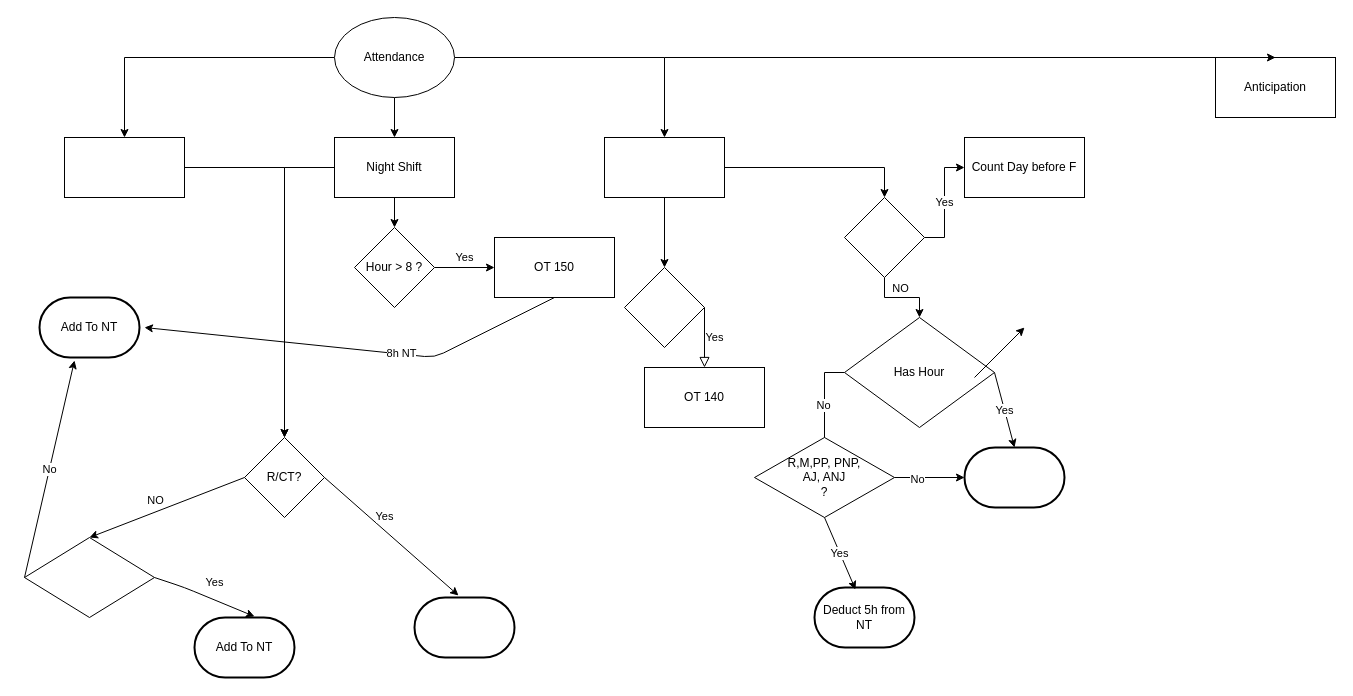
Image size: 1353x696. Some labels were removed from this diagram. Each missing label, with the box of its shape:
Add 5H NT: (963, 446, 1065, 508)
Before WP DAY F ?: (844, 196, 924, 278)
C/Holiday/M/PP ?: (24, 536, 154, 618)
Deduct From NT: (413, 596, 515, 658)
Has Hour ?: (624, 266, 704, 348)
Regular: (64, 136, 184, 198)
WP Day: (604, 136, 724, 198)
